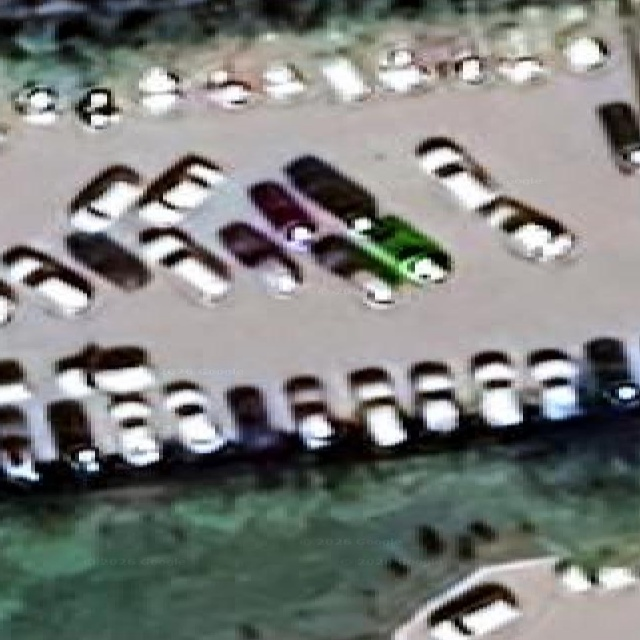car: (416, 137, 576, 262), (285, 155, 377, 232), (139, 228, 230, 303), (354, 216, 452, 284), (2, 246, 93, 316), (313, 235, 400, 308), (480, 196, 576, 262), (136, 155, 224, 226), (416, 136, 498, 211), (219, 222, 301, 296), (428, 582, 521, 639), (65, 231, 151, 291), (68, 165, 141, 232), (349, 368, 408, 449), (248, 181, 317, 250), (163, 381, 226, 455), (46, 399, 101, 477), (226, 386, 287, 453), (470, 351, 523, 428), (583, 337, 639, 409), (284, 376, 337, 450), (108, 394, 161, 467), (527, 349, 579, 420), (409, 362, 460, 434), (88, 345, 155, 394), (0, 406, 40, 484), (597, 101, 639, 173), (554, 560, 638, 593), (377, 44, 427, 93), (53, 344, 97, 398), (321, 56, 371, 102), (558, 31, 610, 73), (138, 66, 181, 114), (204, 69, 253, 110), (75, 87, 120, 130), (12, 82, 58, 124), (262, 62, 306, 100), (496, 54, 547, 84), (0, 359, 31, 405), (453, 47, 488, 84), (0, 280, 16, 326)
